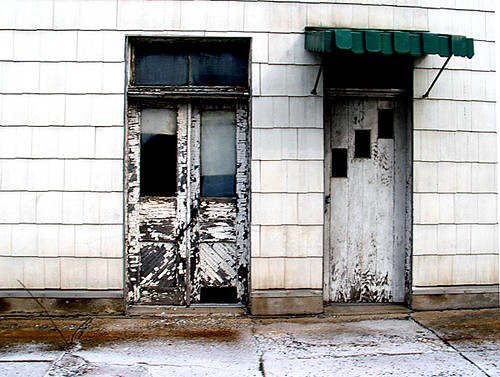door: (123, 89, 252, 311), (321, 88, 412, 312)
